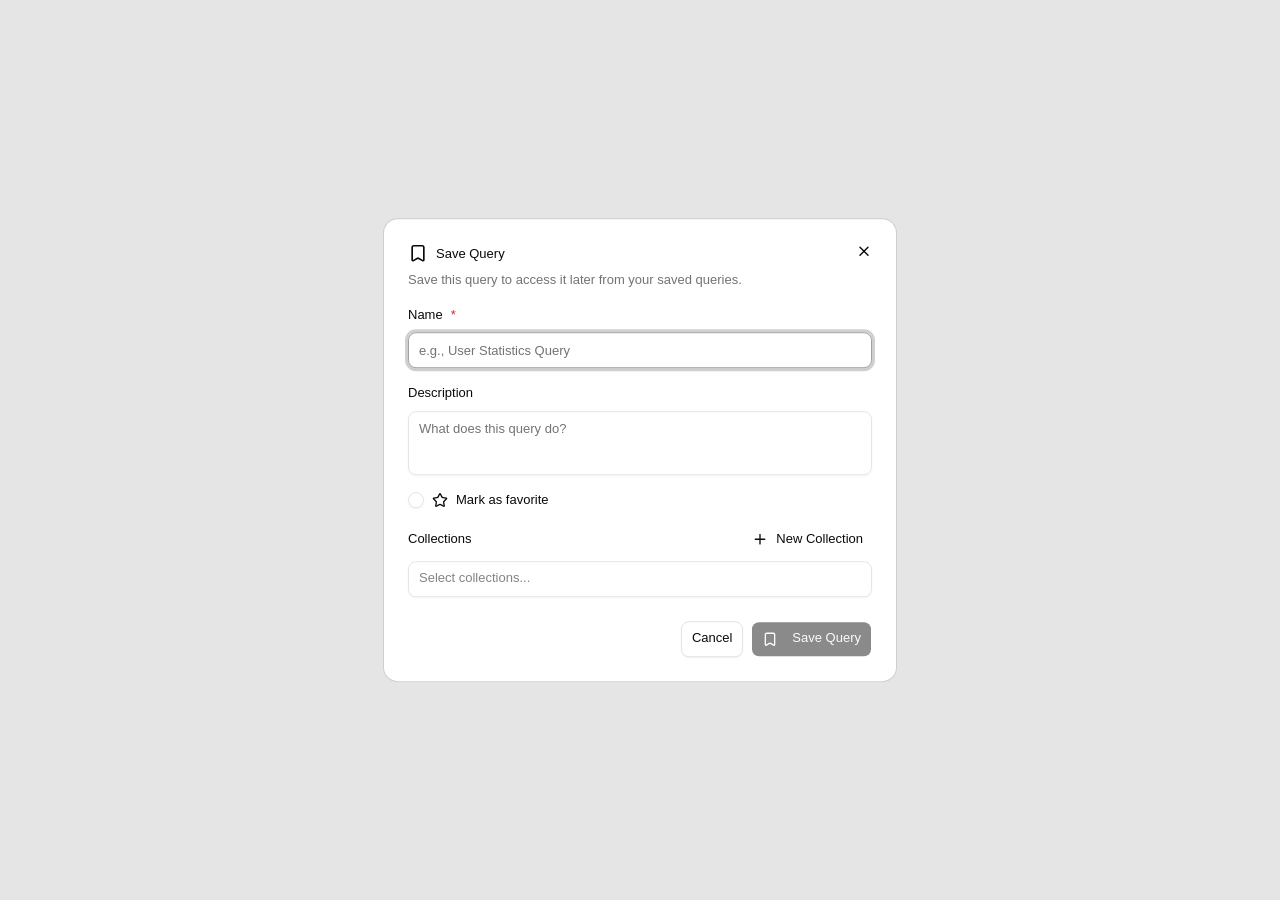
saveQueryDialog › validation › should enable save button when name is provided
Type "My Query" into the field with placeholder "e.g., User Statistics Query" at (640, 350), box [408, 332, 872, 368]
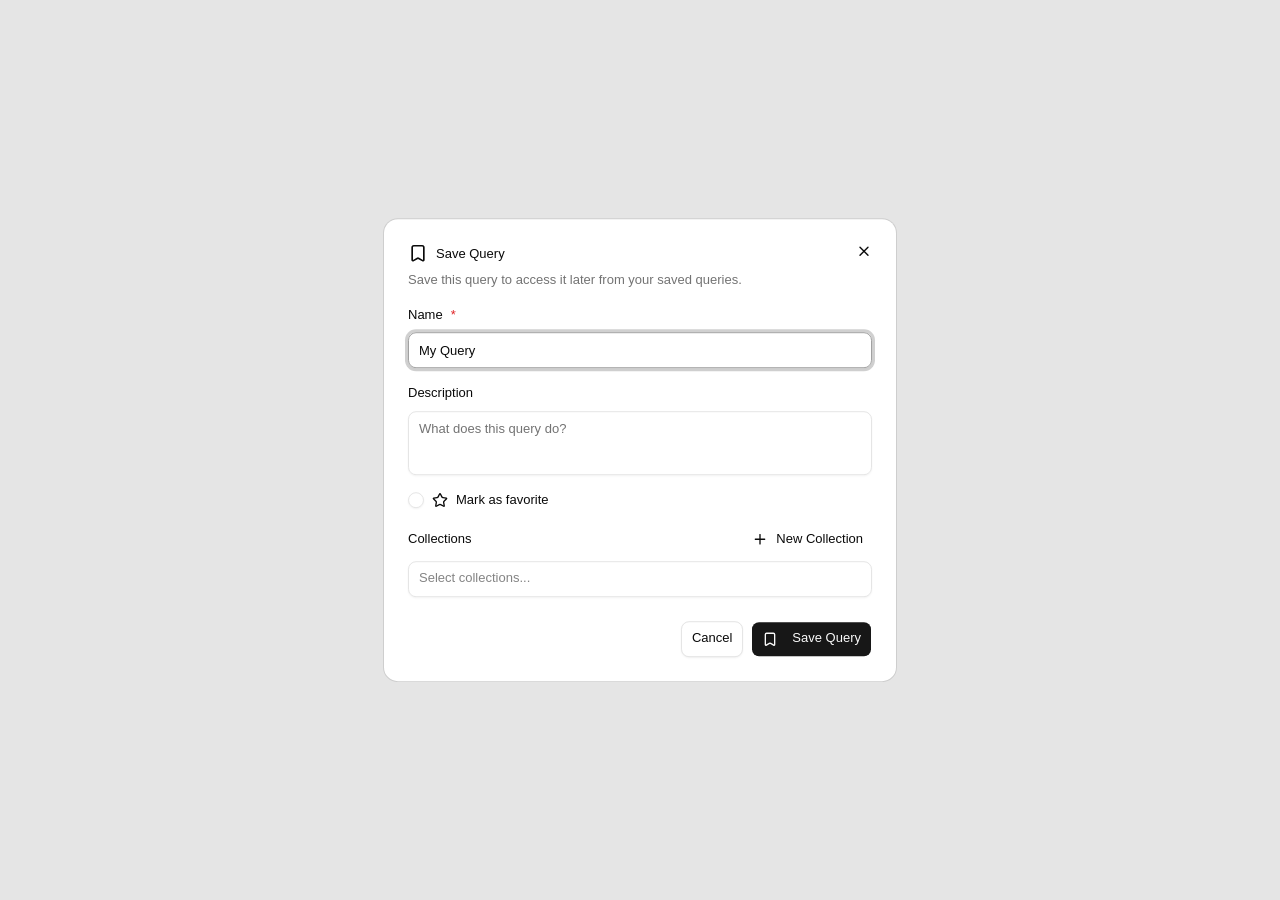
Result: the button "Save Query" is enabled at [751, 621, 872, 657]
